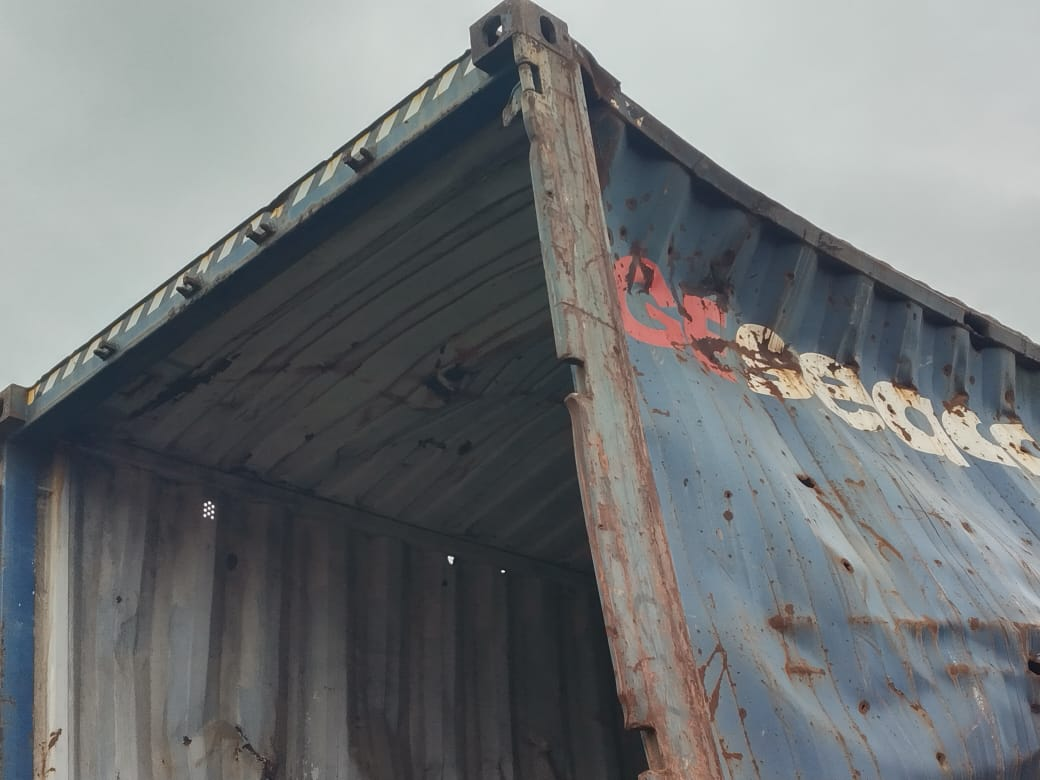dented: (633, 195, 1031, 505)
rust: (824, 565, 1040, 695)
